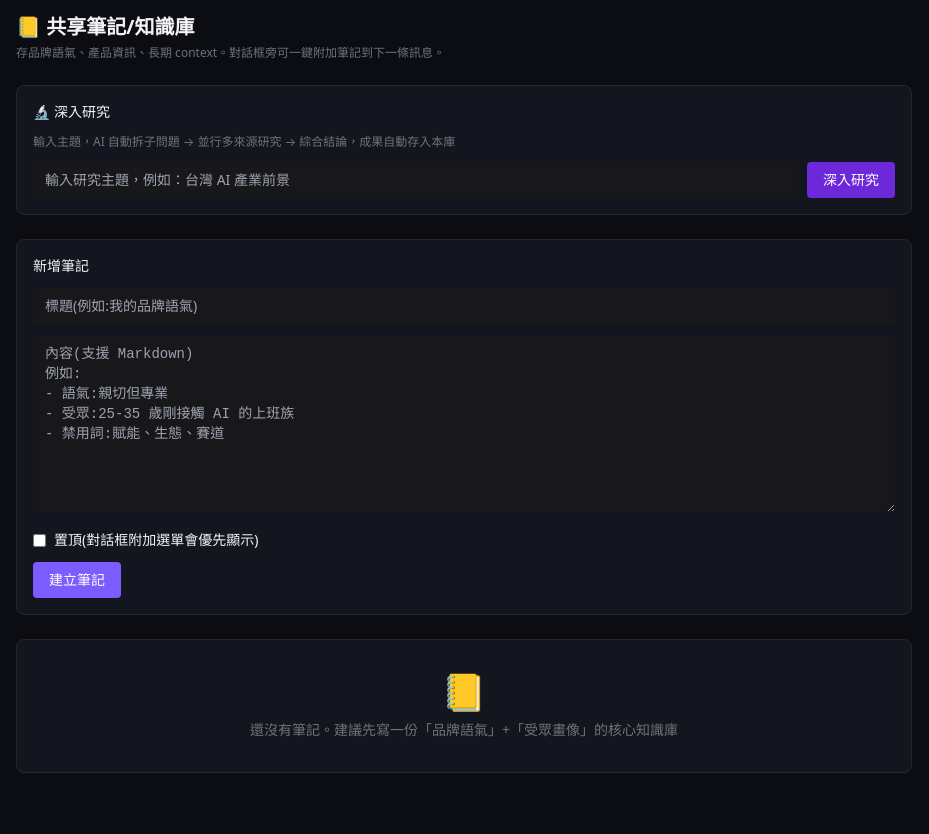
Test: NotesPanel — 🔬 深入研究區塊 › status=error 後顯示失敗提示不崩潰
The image size is (929, 834).
Type "台灣 AI" into the field with placeholder "輸入研究主題，例如：台灣 AI 產業前景".
click(416, 180); type("台灣 AI")  # box left=33, top=162, right=799, bottom=198
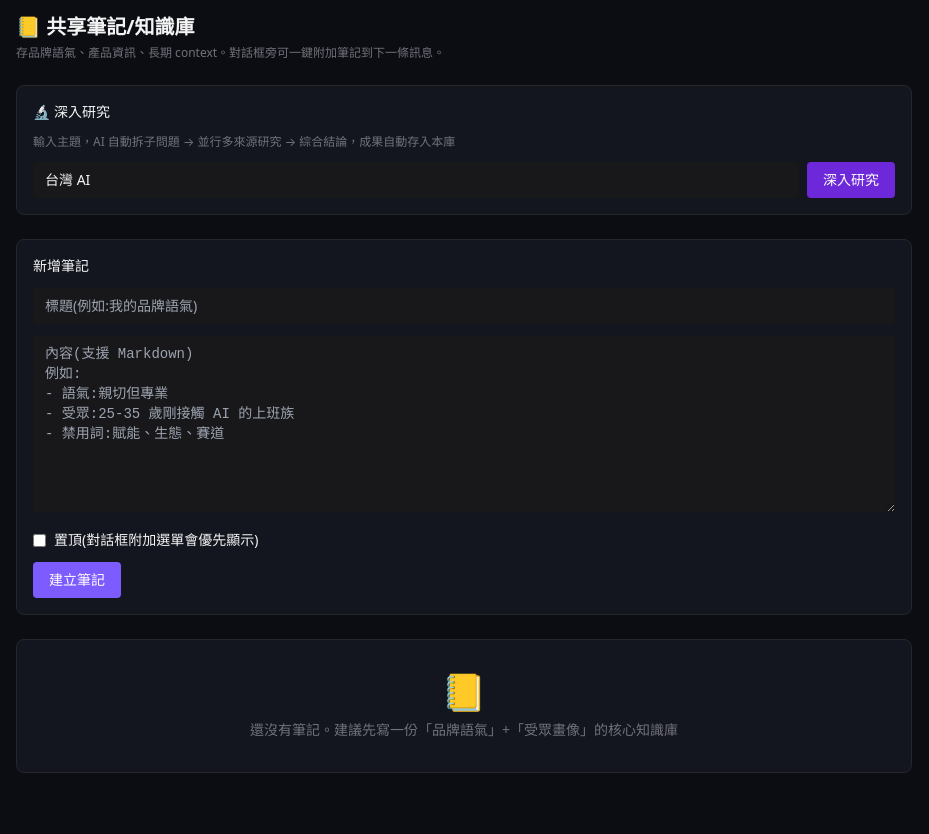
Click the button "深入研究".
click(851, 180)  # box left=807, top=162, right=895, bottom=198
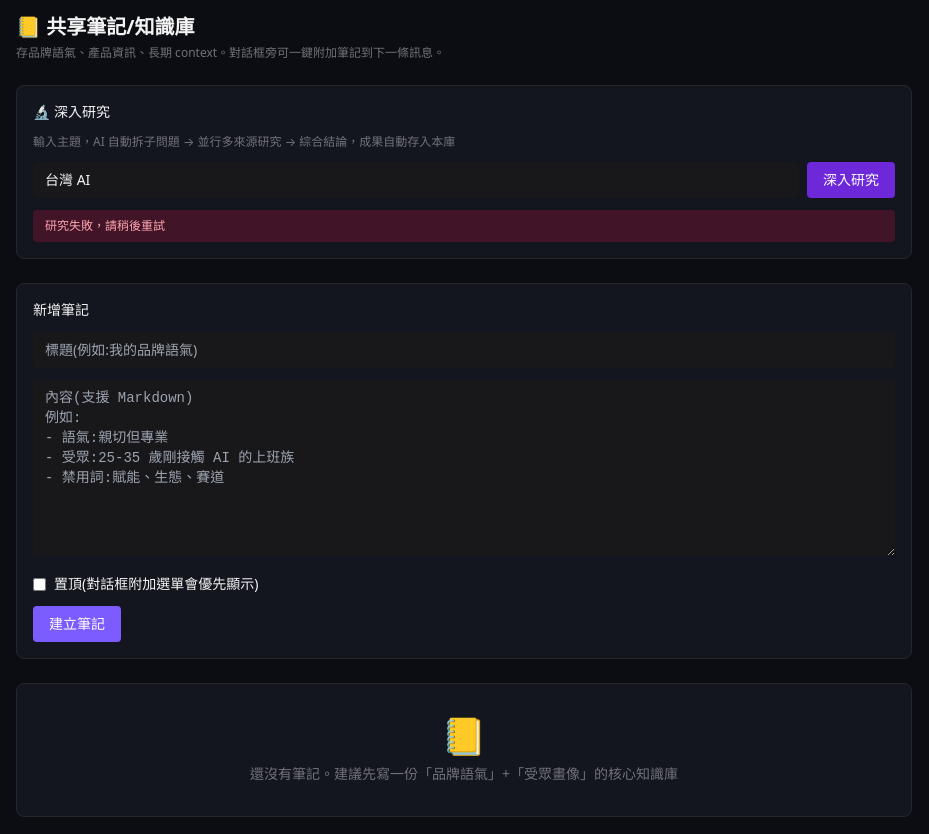
Expected: the text "研究失敗，請稍後重試" is shown, left=33, top=210, right=895, bottom=242
